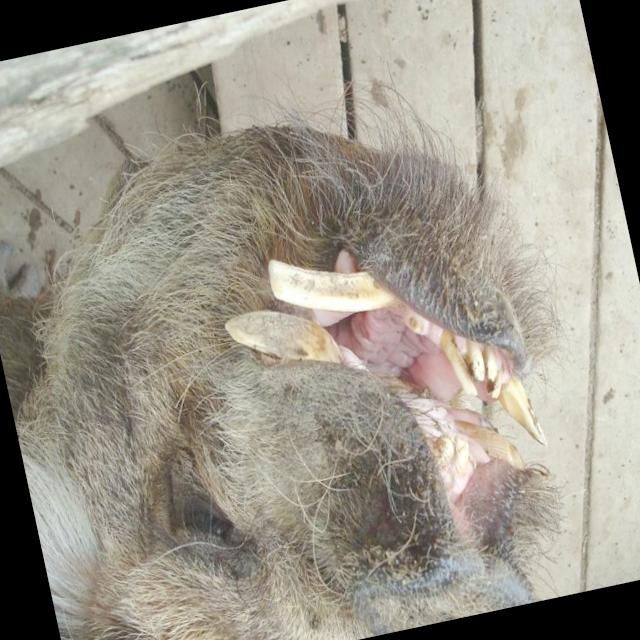pig: (0, 117, 560, 640)
